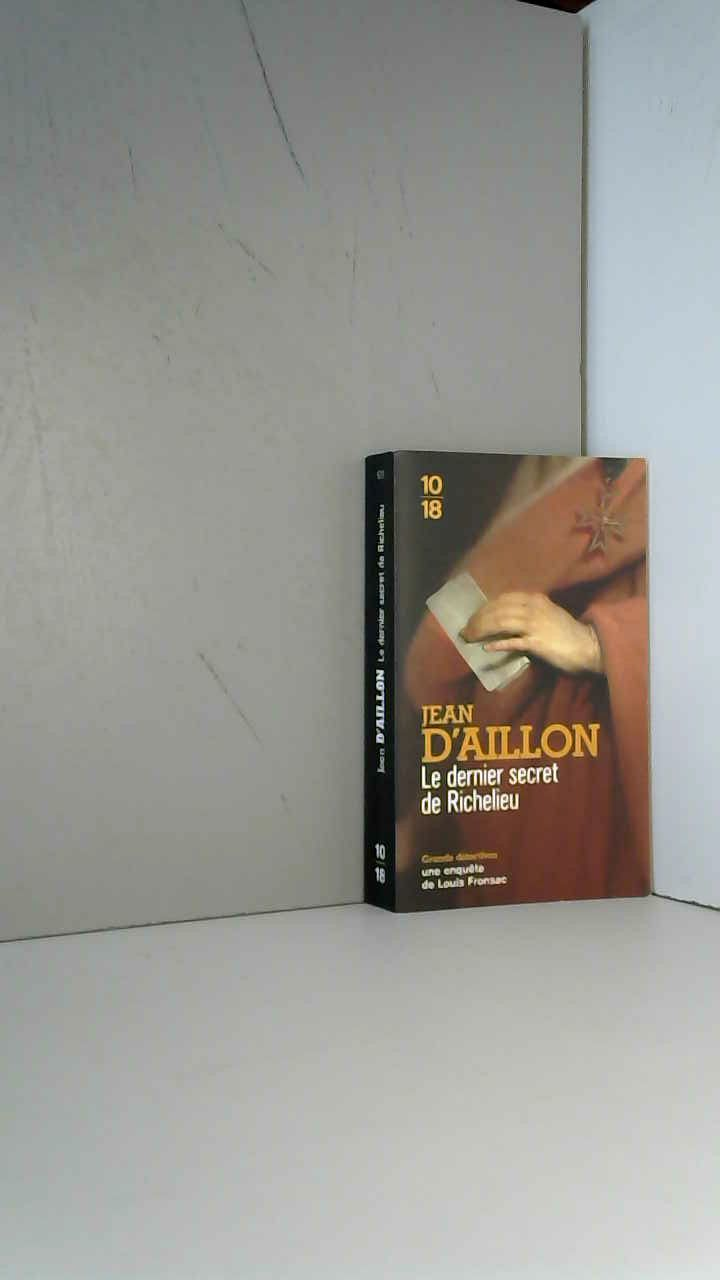book: (340, 420, 720, 938)
